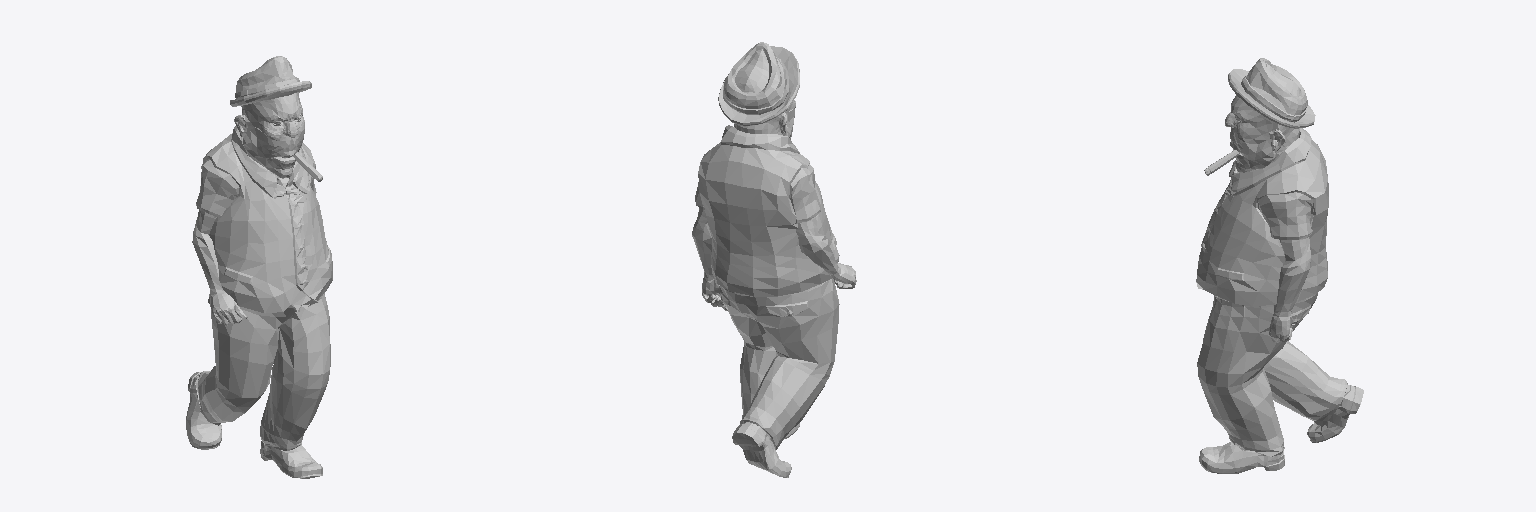
File: walk0015.obj
The picture shows the model from 3 angles: view 1: azimuth 30°, elevation 25°; view 2: azimuth 150°, elevation 25°; view 3: azimuth 270°, elevation 25°; orthographic projection.
Parts seen in each view (by area): view 1: mixamorig:Jacket_Geo, mixamorig:Pants_Geo, mixamorig:Head_Geo, mixamorig:Shoes_Geo, mixamorig:Hat_Geo, mixamorig:Arms_Geo; view 2: mixamorig:Jacket_Geo, mixamorig:Pants_Geo, mixamorig:Hat_Geo, mixamorig:Arms_Geo, mixamorig:Shoes_Geo, mixamorig:Head_Geo; view 3: mixamorig:Jacket_Geo, mixamorig:Pants_Geo, mixamorig:Hat_Geo, mixamorig:Head_Geo, mixamorig:Shoes_Geo, mixamorig:Arms_Geo.
Part boxes in pixels (left/top/right/bottom): mixamorig:Jacket_Geo: left=196, top=126, right=332, bottom=313; mixamorig:Pants_Geo: left=195, top=293, right=330, bottom=450; mixamorig:Head_Geo: left=234, top=92, right=304, bottom=186; mixamorig:Shoes_Geo: left=186, top=371, right=322, bottom=478; mixamorig:Hat_Geo: left=230, top=56, right=311, bottom=106; mixamorig:Arms_Geo: left=192, top=210, right=247, bottom=325; mixamorig:Jacket_Geo: left=695, top=125, right=839, bottom=296; mixamorig:Pants_Geo: left=719, top=278, right=839, bottom=449; mixamorig:Hat_Geo: left=718, top=42, right=799, bottom=126; mixamorig:Arms_Geo: left=692, top=208, right=856, bottom=310; mixamorig:Shoes_Geo: left=732, top=422, right=799, bottom=477; mixamorig:Head_Geo: left=734, top=100, right=795, bottom=139; mixamorig:Jacket_Geo: left=1196, top=128, right=1328, bottom=306; mixamorig:Pants_Geo: left=1197, top=293, right=1347, bottom=456; mixamorig:Hat_Geo: left=1228, top=58, right=1315, bottom=128; mixamorig:Head_Geo: left=1225, top=95, right=1299, bottom=172; mixamorig:Shoes_Geo: left=1199, top=384, right=1363, bottom=473; mixamorig:Arms_Geo: left=1269, top=237, right=1310, bottom=342.
Bounding box in the file's own units: 0.6563 × 1.96 × 0.7337.